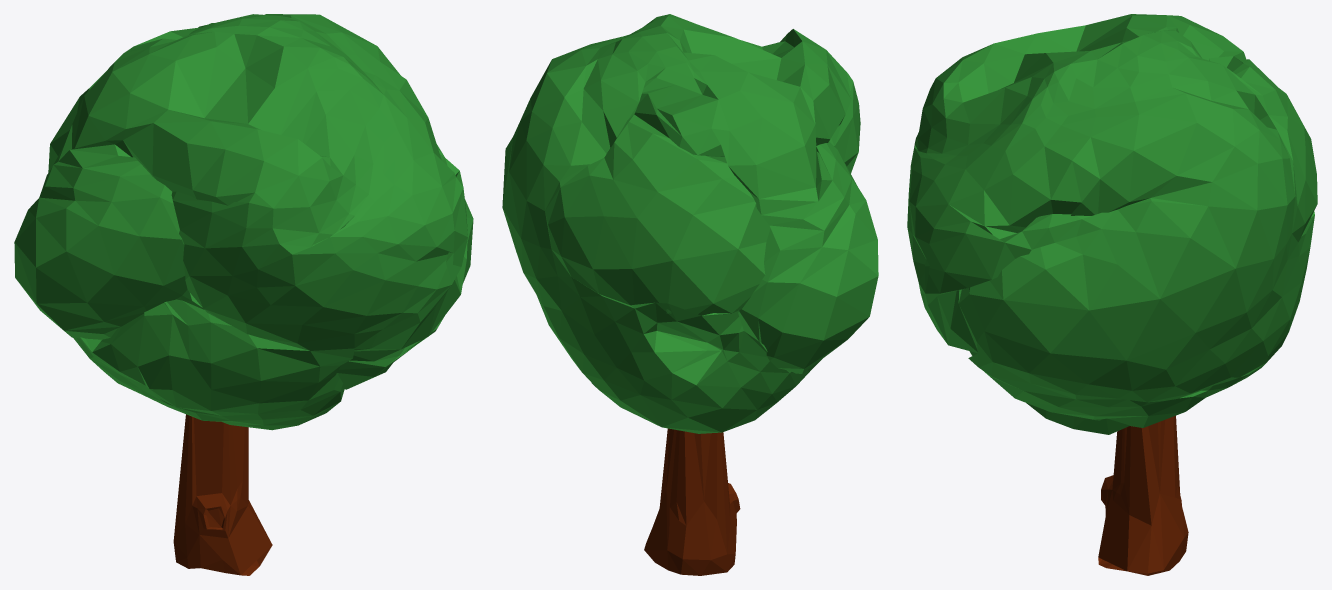
The model's file is tree.03.gltf.
The picture shows the model from 3 angles, left to right: view 1: azimuth 30°, elevation 25°; view 2: azimuth 150°, elevation 25°; view 3: azimuth 270°, elevation 25°; orthographic projection. The views are drawn at different scales.
Parts seen in each view (by area): view 1: Tree.03; view 2: Tree.03; view 3: Tree.03.
Boxes of the visible parts, x1,y1,x2,y2 form: Tree.03: (14,14,473,575); Tree.03: (502,14,878,575); Tree.03: (907,14,1317,575).
Bounding box in the file's own units: 2.28 × 3.05 × 2.11.
